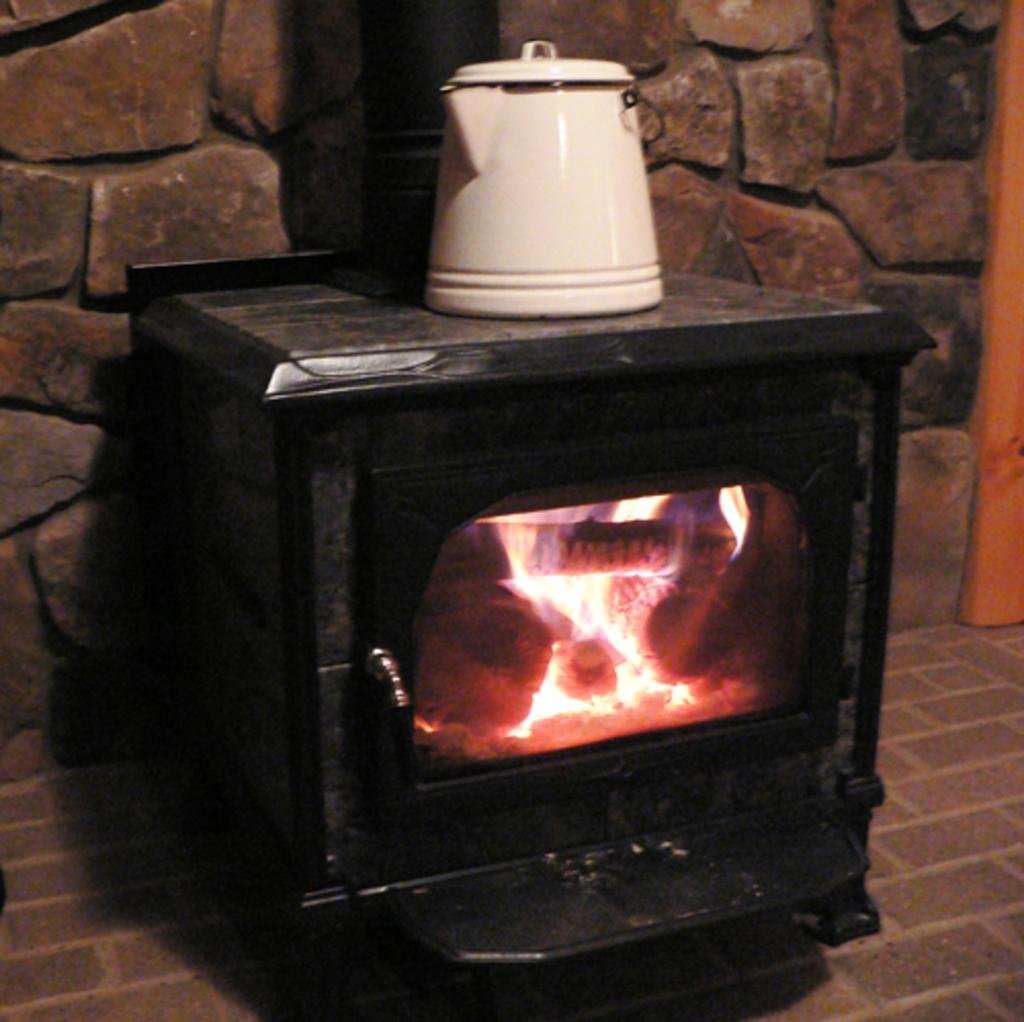Fire: (437, 487, 799, 741)
